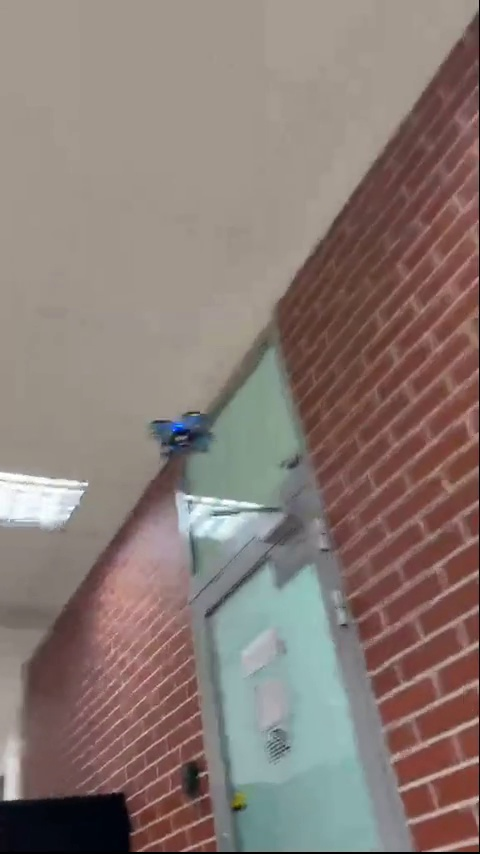drone: (152, 408, 210, 455)
